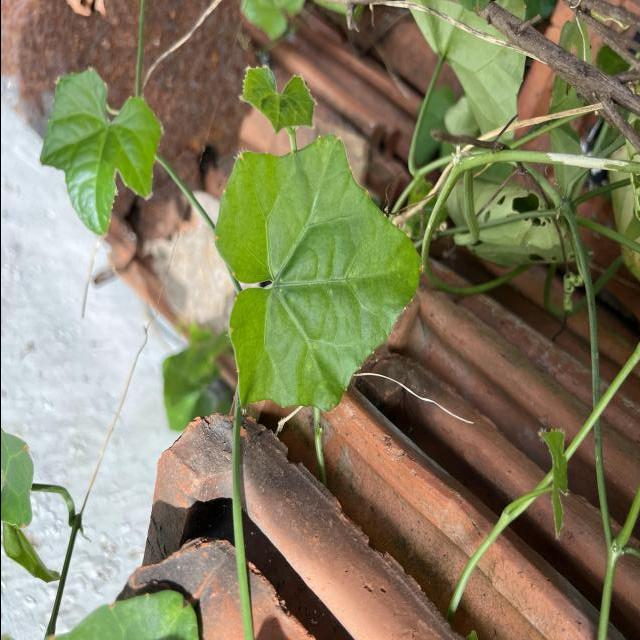Coccinia grandis: (211, 133, 423, 414)
